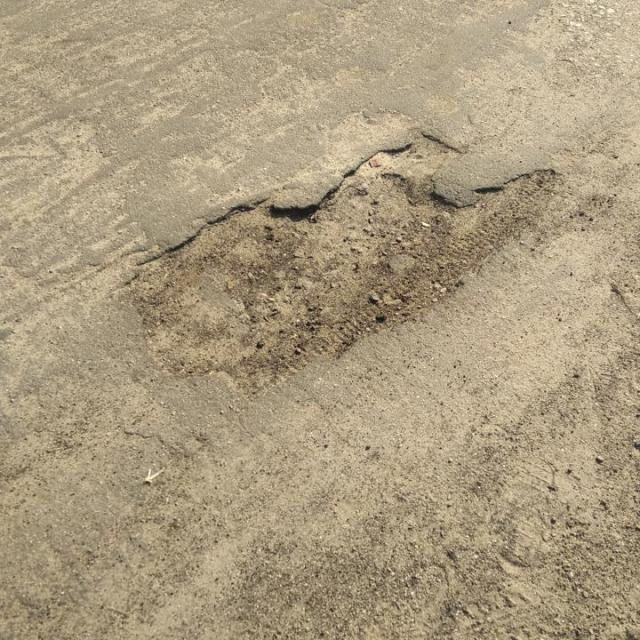pothole: (112, 125, 561, 407)
